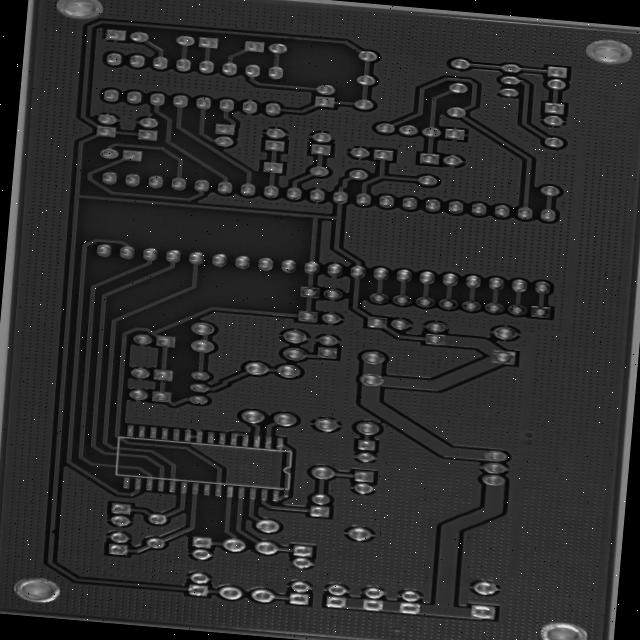mouse_bite: (44, 527, 59, 536)
